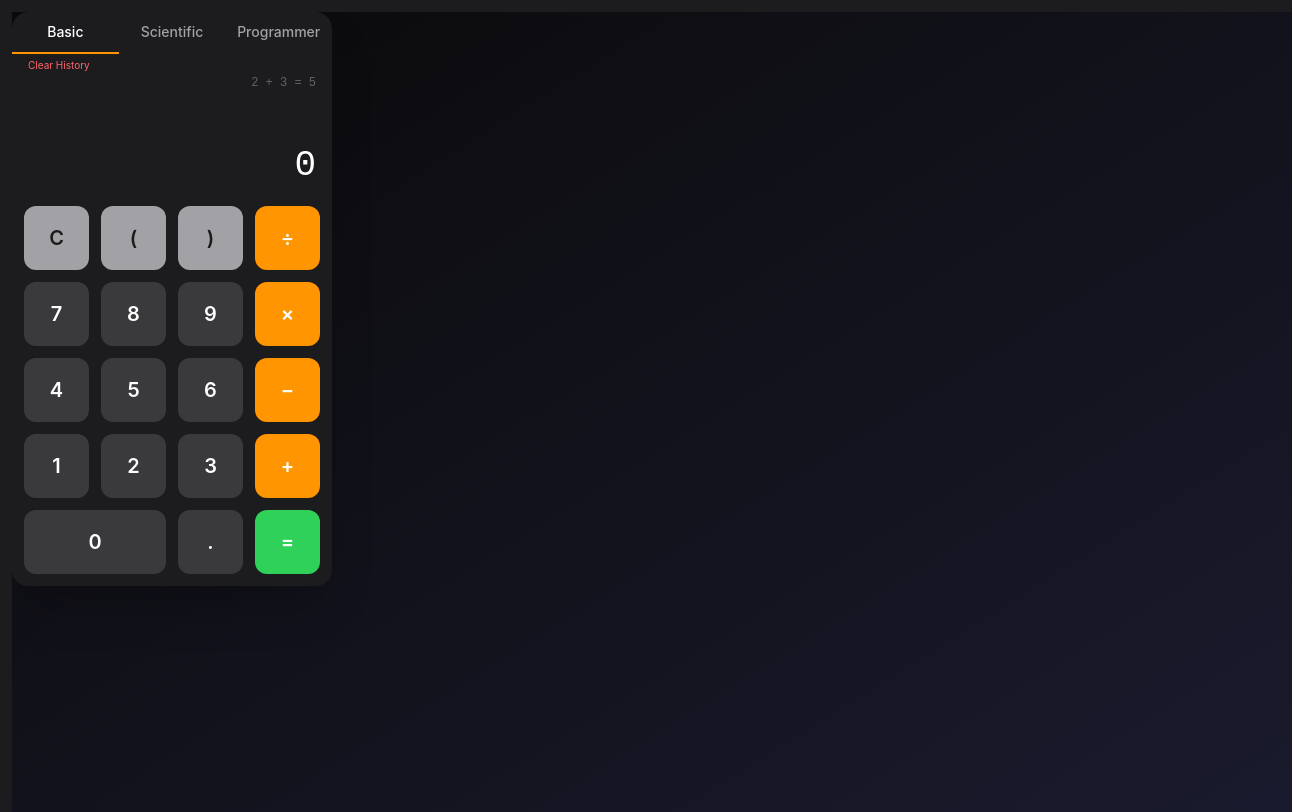
it: Calculator › clears history when Clear History is clicked
Click the button "Clear History": x=59, y=66 [28,58,90,73]
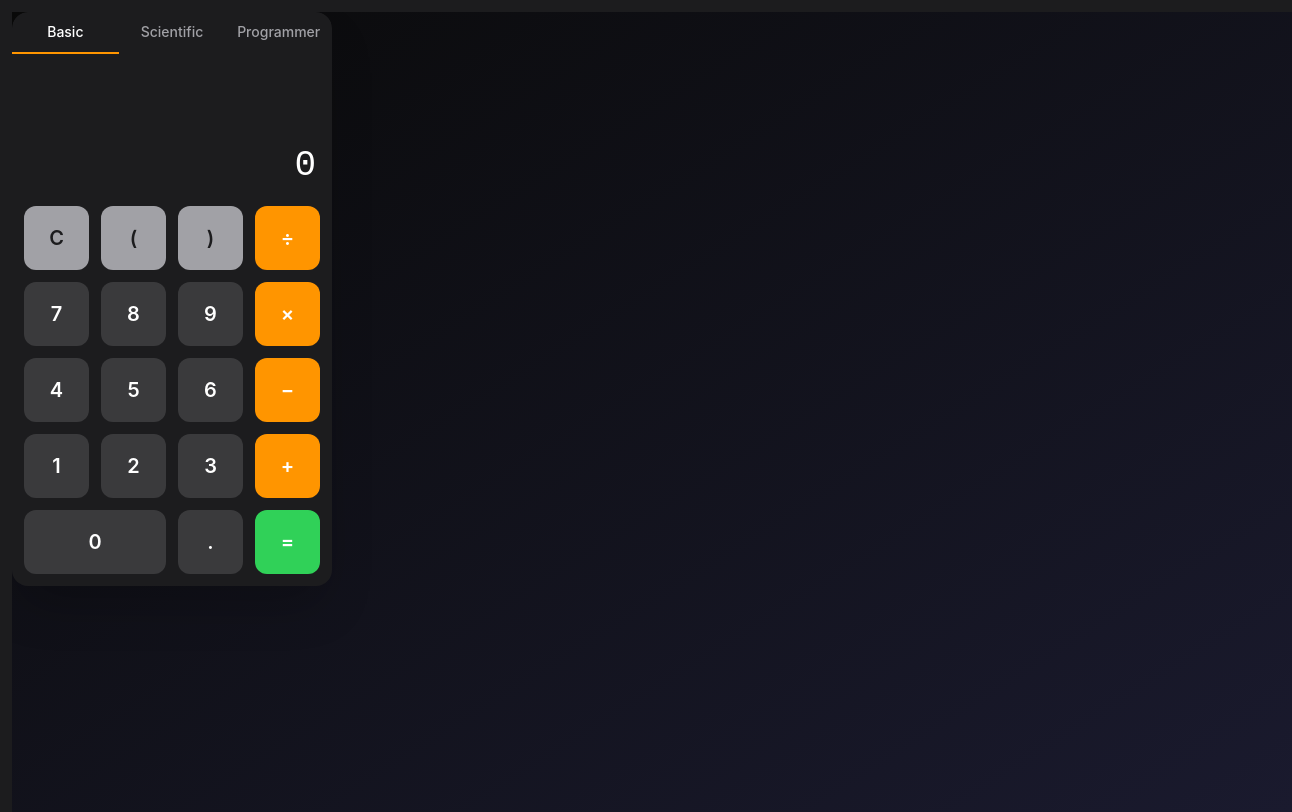
Check: the list item "2 + 3 = 5" is gone
